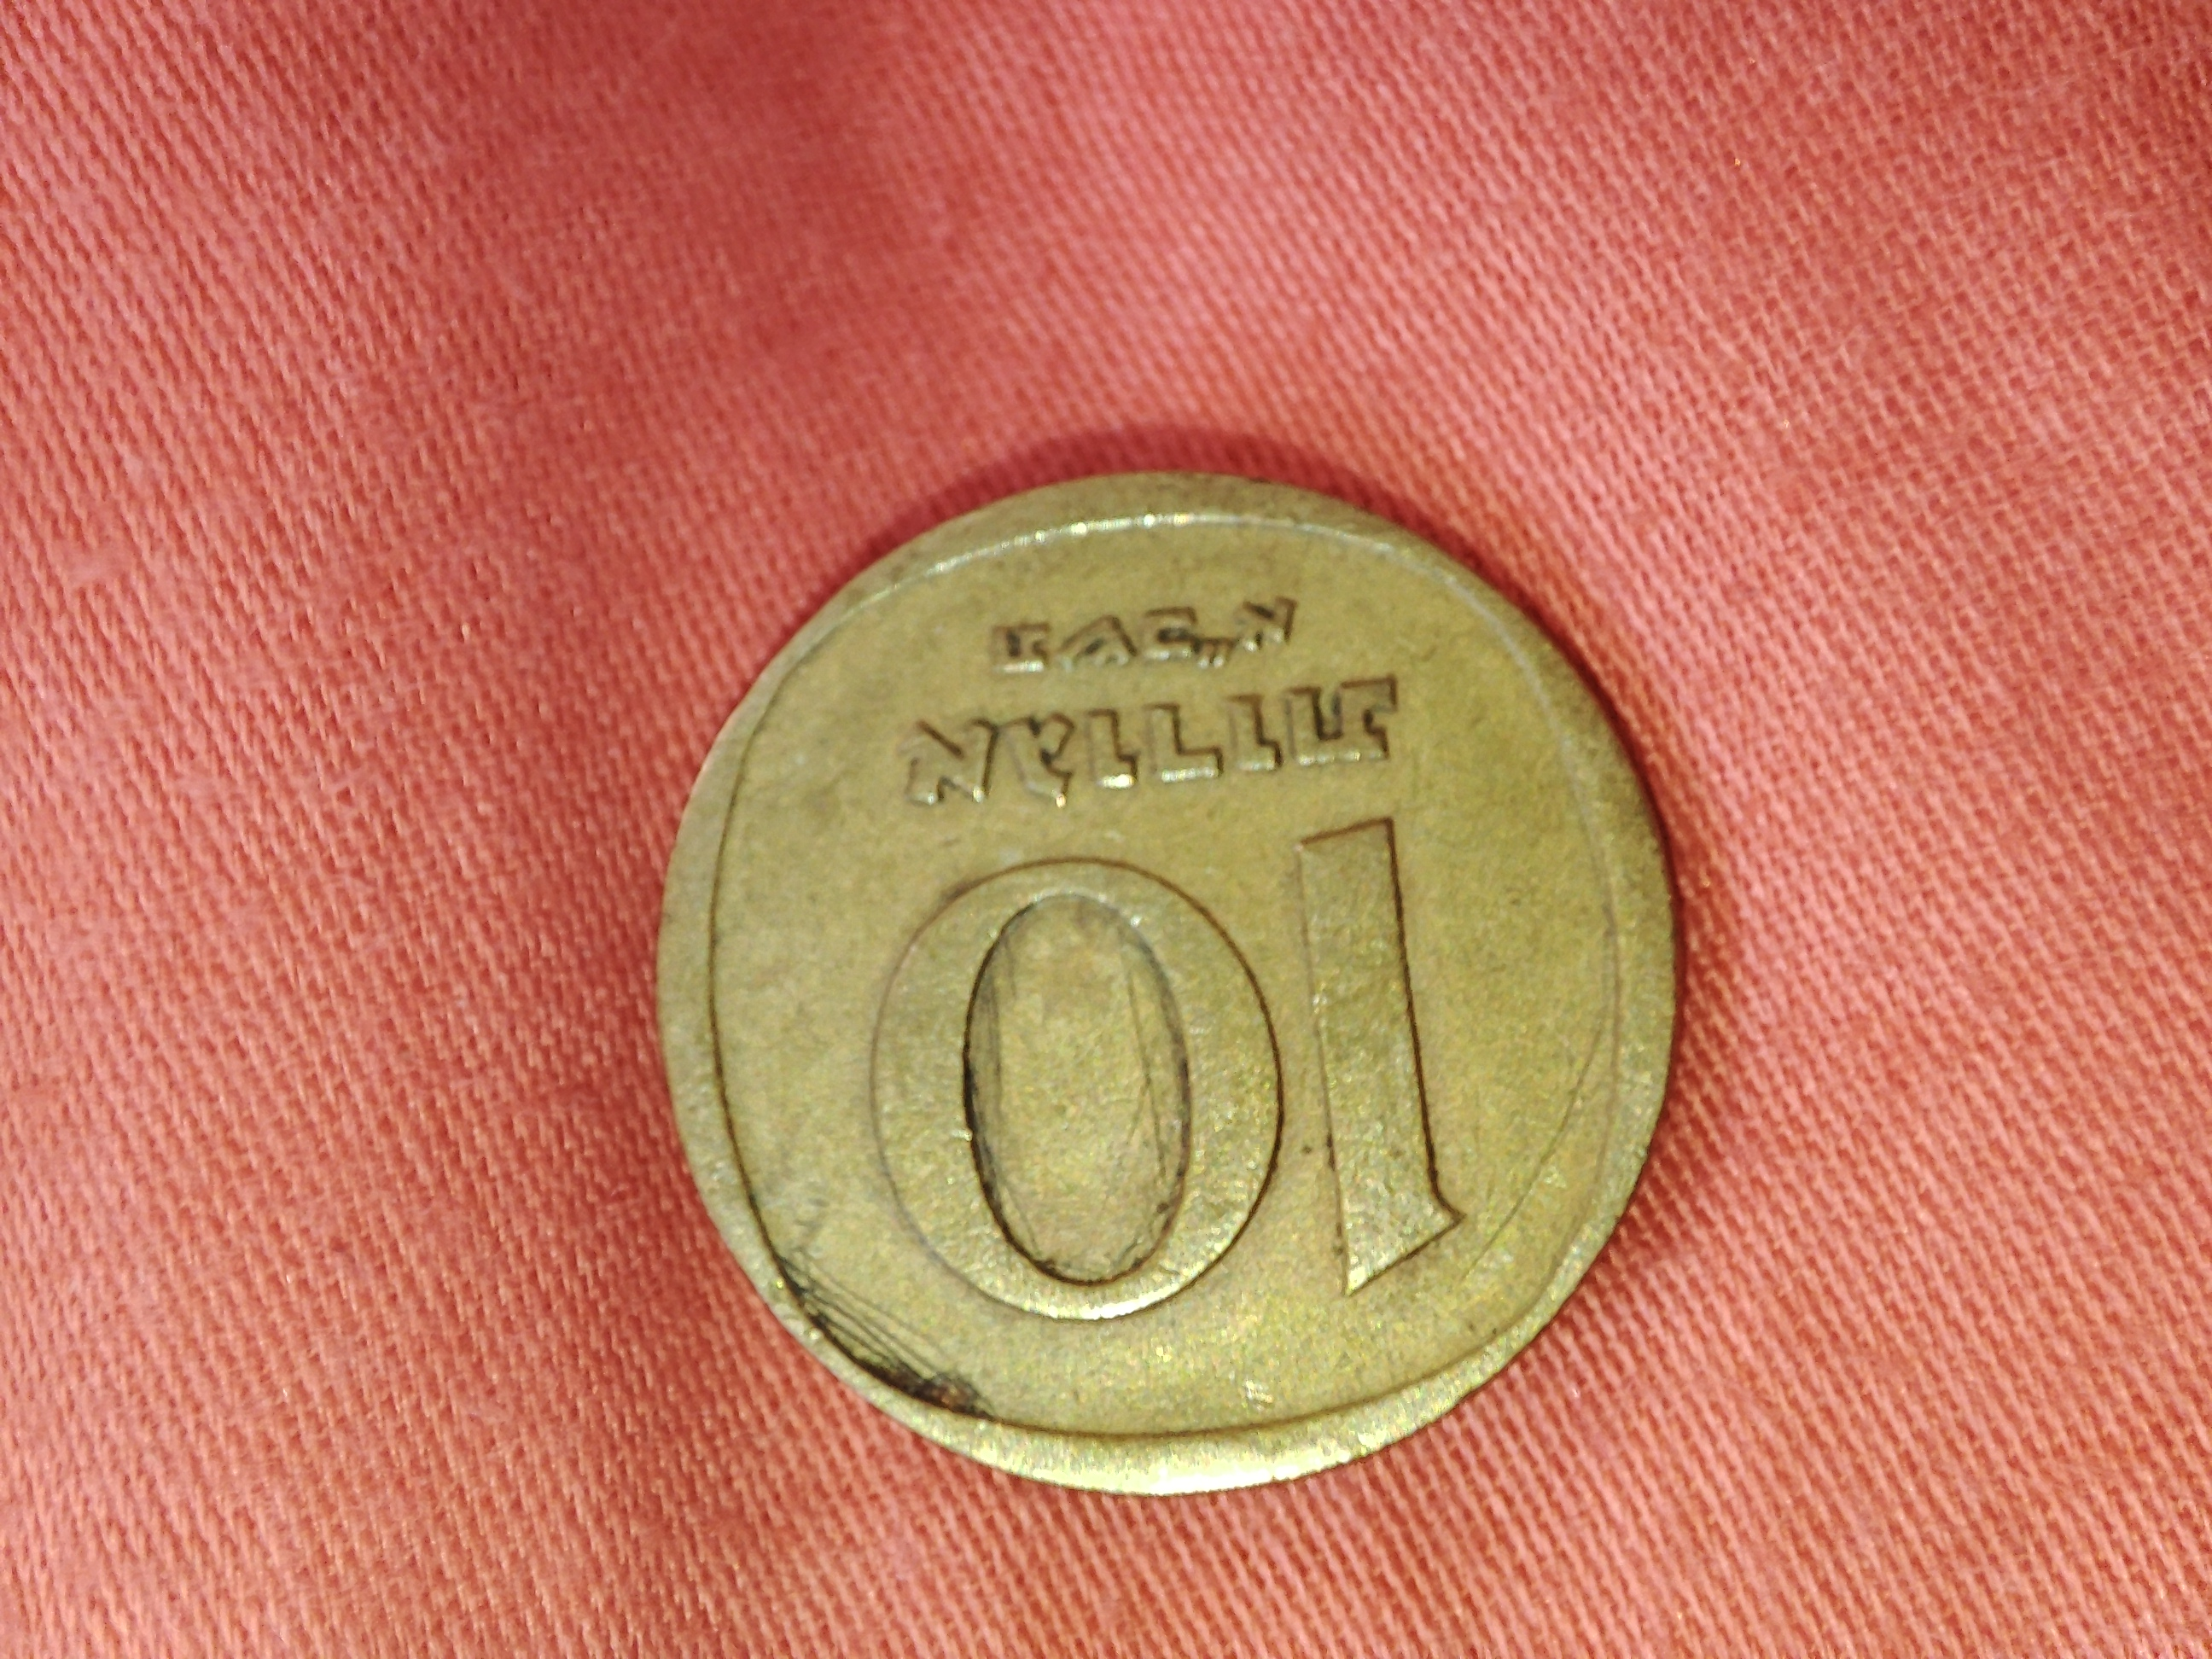10 old agora brown: (648, 432, 1696, 1504)
